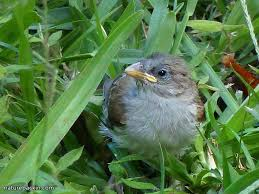hsparrow: (101, 50, 200, 154)
